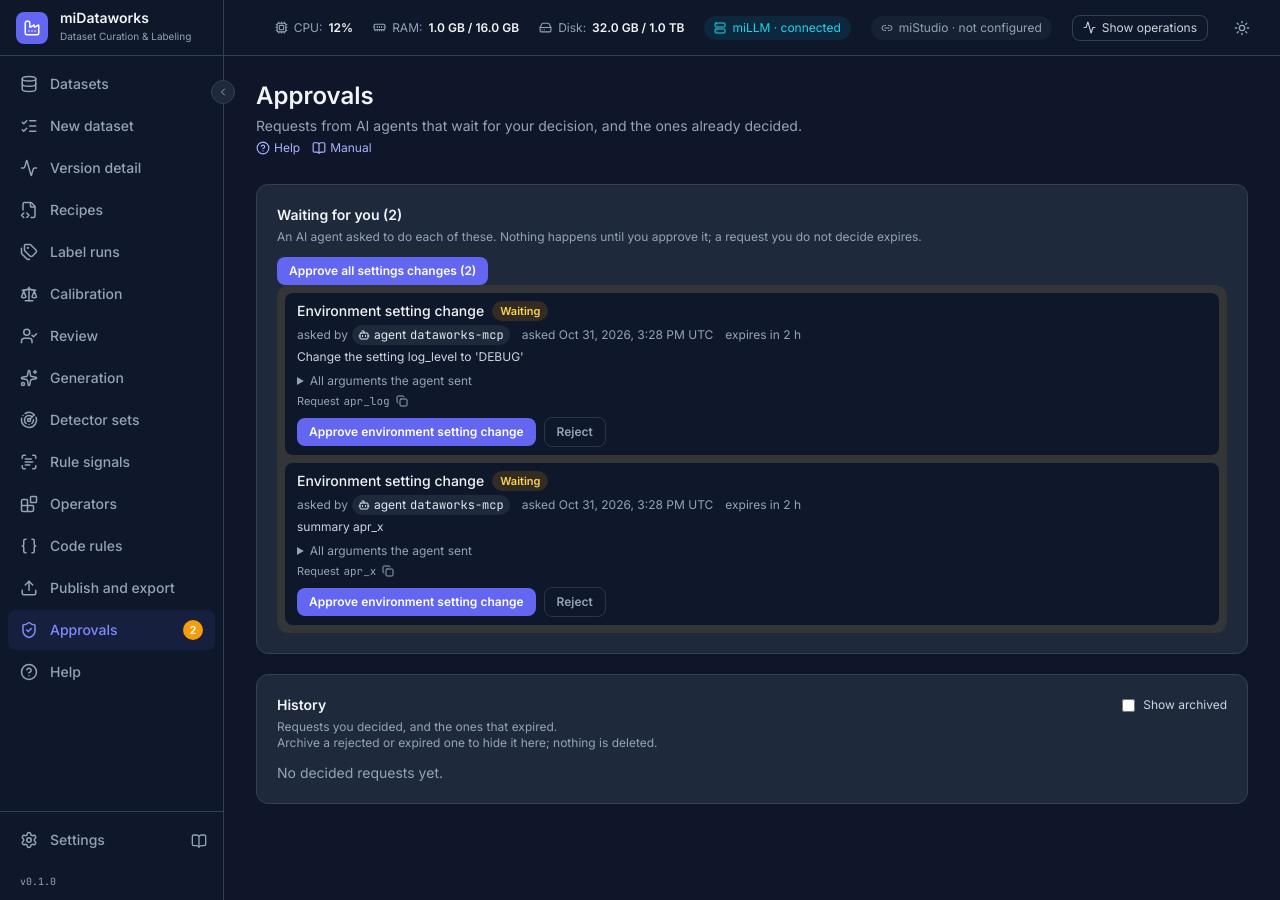
the confirm › shows request text as text, never markup
Click the button with test id "approve-all-settings-button".
click(383, 271)  # box [277,257,488,285]
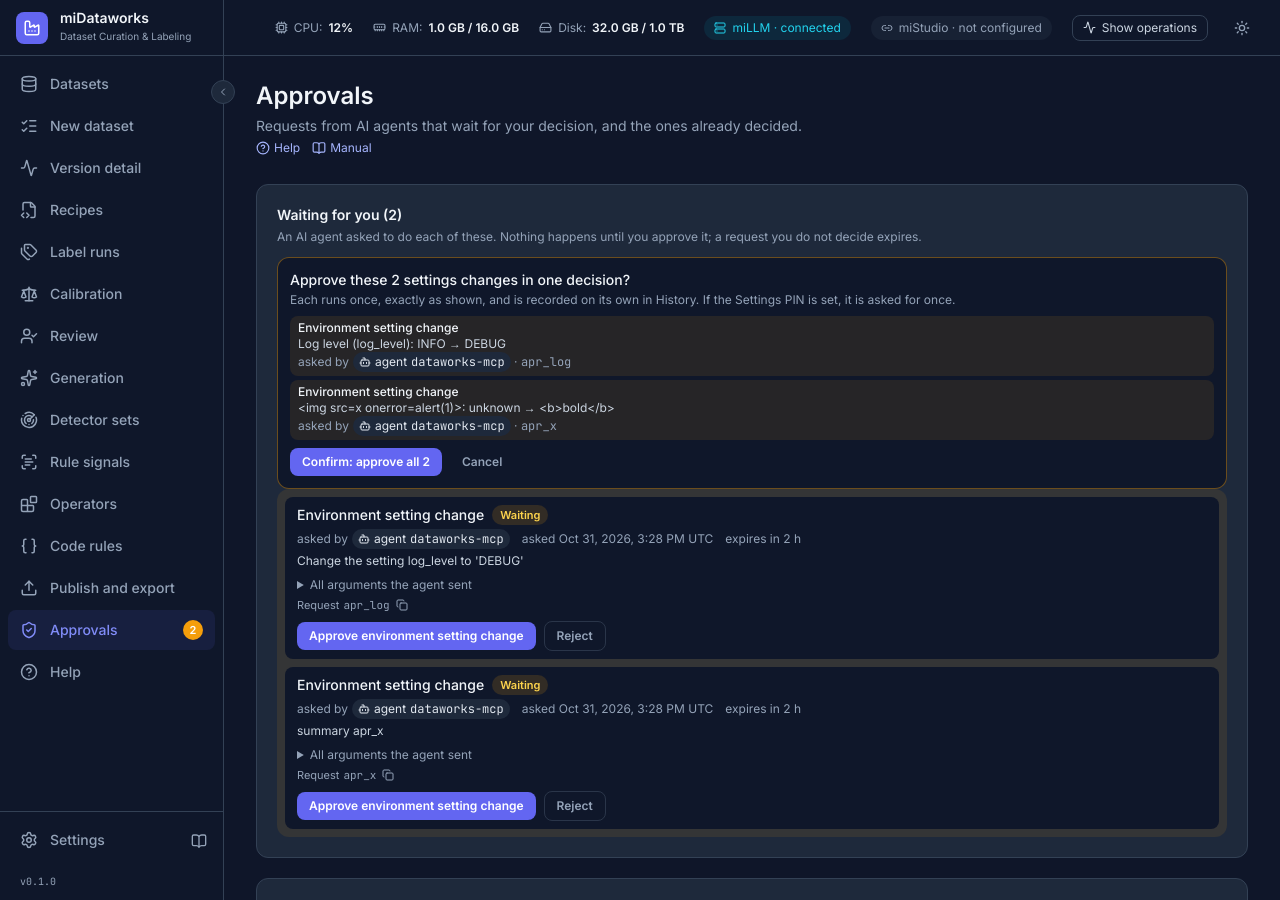
Expected: the dialog shows "<img src=x onerror=alert(1)>: unknown → <b>bold</b>", [277,257,1227,489]
